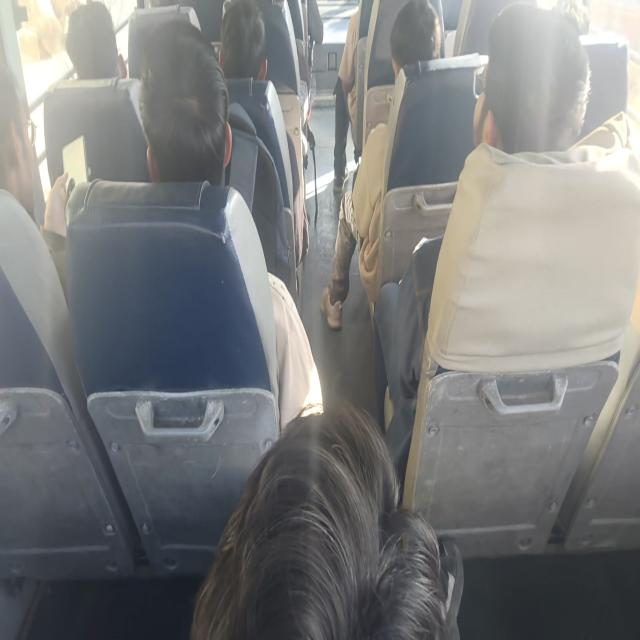person: (204, 386, 456, 640), (468, 3, 589, 157), (130, 21, 238, 183), (0, 54, 40, 219), (202, 0, 272, 86), (381, 0, 446, 89), (56, 0, 118, 83), (554, 2, 591, 43)
